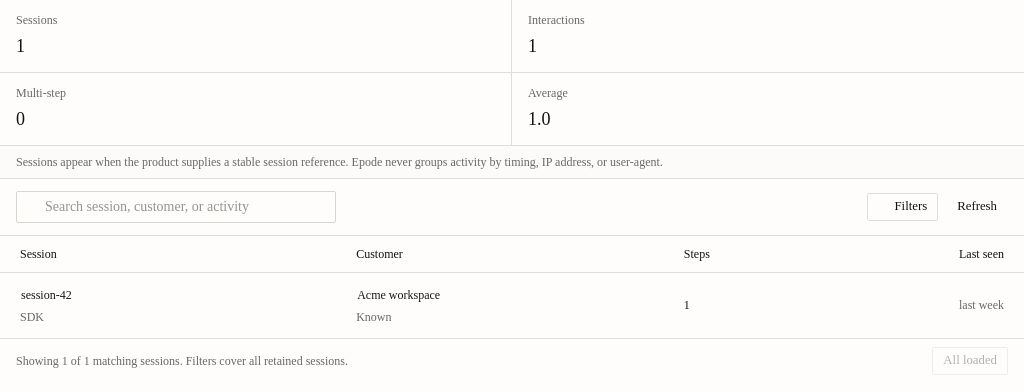
Test: observability onboarding states › does not flash unfiltered sessions while a server search is pending
The width and height of the screenshot is (1024, 392).
Expected: the row "session-42 SDK Acme workspace Known 1 last week" is shown, [0,272,1023,338]
In the field named "Search sessions": (187, 207) [39,191,335,223], type "missing"
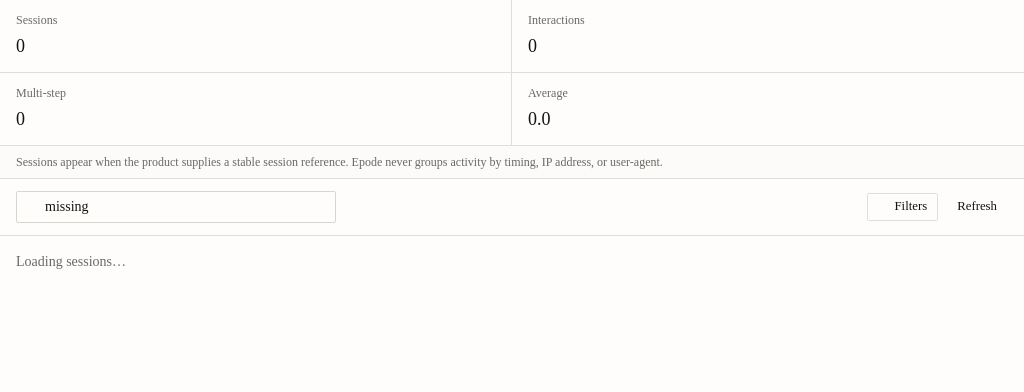
Result: the button "session-42" is gone
Result: the text "Loading sessions…" is shown at [16,254,126,269]
